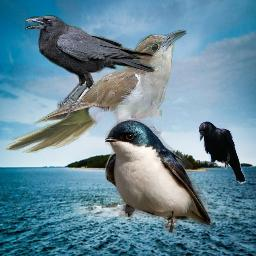Crow: (25, 15, 156, 112), (198, 121, 246, 185)
Cuckoo: (4, 29, 187, 153)
Swallow: (105, 119, 213, 234)
